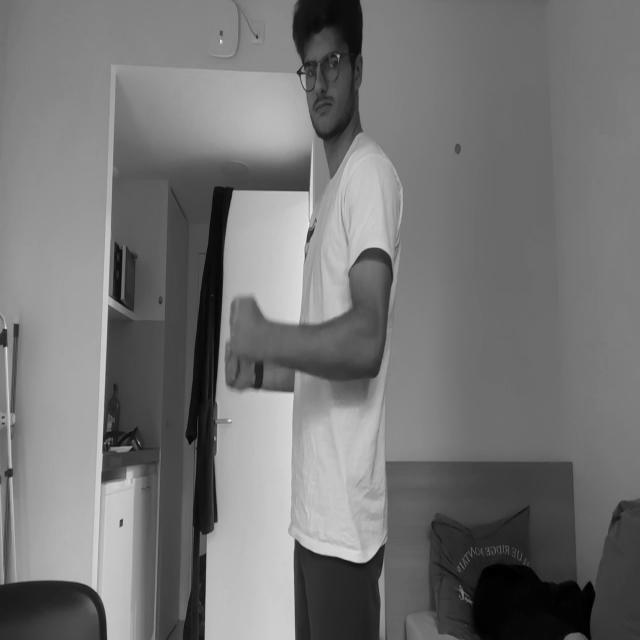elbow: (346, 304, 384, 380)
hand: (230, 294, 262, 360), (224, 335, 257, 392)
shoulder: (344, 150, 398, 236)
